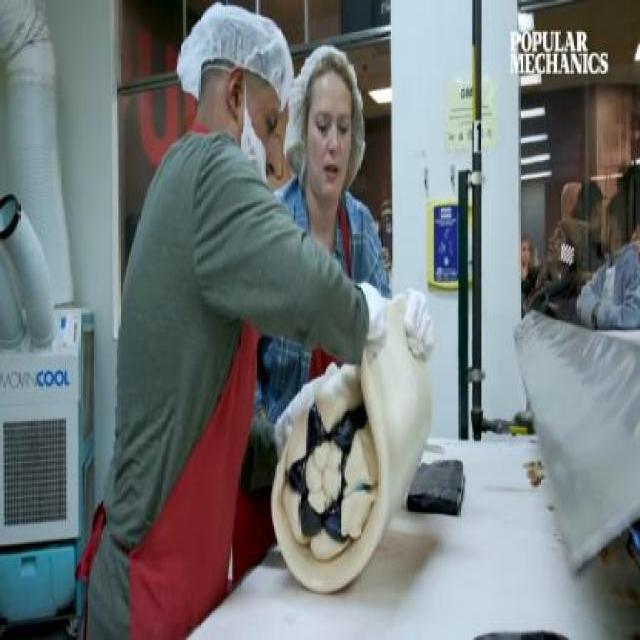hairnet: (178, 3, 286, 98), (294, 50, 361, 104)
